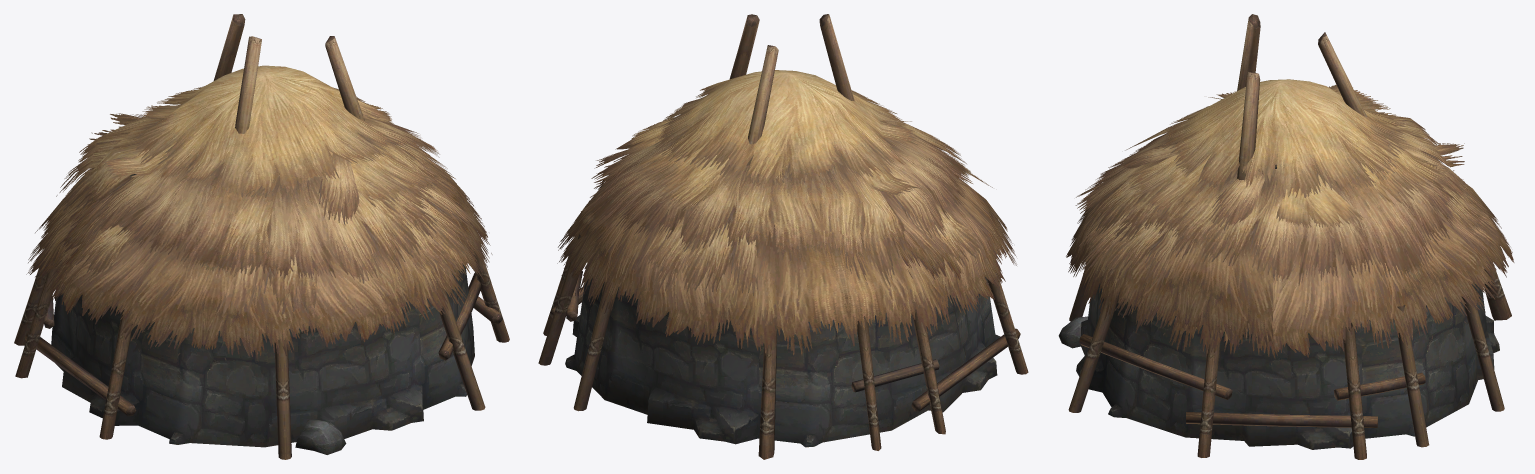
The model's file is Hangzhou_wj_005.FBX.
3 renders of one model, left to right at view 1: azimuth 30°, elevation 25°; view 2: azimuth 150°, elevation 25°; view 3: azimuth 270°, elevation 25°, orthographic. The views are drawn at different scales.
Parts seen in each view (by area): view 1: DrawCall_0362; view 2: DrawCall_0362; view 3: DrawCall_0362.
Part boxes in pixels (x1,y1,x2,y2): DrawCall_0362: (14, 14, 509, 459); DrawCall_0362: (538, 14, 1028, 459); DrawCall_0362: (1058, 14, 1514, 459).
Size of the model in its own units: 377 by 294 by 370.
